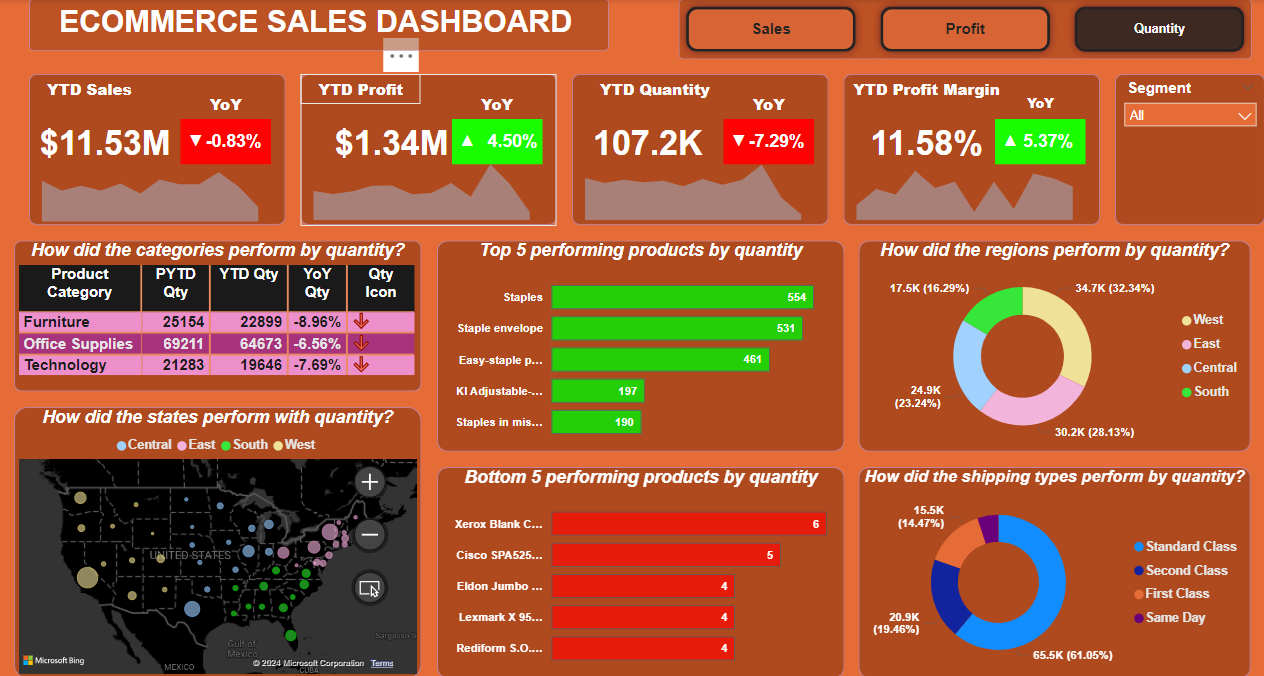

This screenshot's page, from the dashboard's own definition file:
{"tool":"powerbi","page":{"name":"Quantity","canvas":[1345,720],"ordinal":2},"visuals":[{"type":"group","id":"g1","title":"Group 2","box":[320,80,272,160],"z":0},{"type":"shape","box":[32,0,615,55],"z":1000},{"type":"textbox","box":[32,0,608,48],"z":2000},{"type":"shape","box":[320,80,272,160],"z":2000,"group":"g4"},{"type":"shape","box":[608,80,272,160],"z":2000,"group":"g2"},{"type":"shape","box":[896,80,272,160],"z":2000,"group":"g3"},{"type":"shape","box":[32,80,272,160],"z":3000},{"type":"areaChart","fields":{"Category":["Date.Month"],"Y":["Sum(ecommerce_data.profit_per_order)"]},"box":[320,160,256,80],"z":4000,"group":"g4"},{"type":"areaChart","fields":{"Category":["Date.Month"],"Y":["Sum(ecommerce_data.order_quantity)"]},"box":[608,160,256,80],"z":4000,"group":"g2"},{"type":"areaChart","fields":{"Category":["Date.Month"],"Y":["ecommerce_data.Gross Profit Margin"]},"box":[896,160,256,80],"z":4000,"group":"g3"},{"type":"shape","box":[16,256,432,160],"z":4000},{"type":"card","fields":{"Values":["ecommerce_data.YTD Sales"]},"box":[16,128,192,48],"z":5000},{"type":"shape","box":[480,128,96,48],"z":5000,"group":"g4"},{"type":"shape","box":[768,128,96,48],"z":5000,"group":"g2"},{"type":"shape","box":[1056,128,96,48],"z":5000,"group":"g3"},{"type":"card","fields":{"Values":["ecommerce_data.YoY Profit"]},"box":[512,128,64,48],"z":6000,"group":"g4"},{"type":"card","fields":{"Values":["ecommerce_data.YoY Qty"]},"box":[784,128,80,48],"z":6000,"group":"g2"},{"type":"card","fields":{"Values":["ecommerce_data.YoY Gross Profit Margin"]},"box":[1072,128,80,48],"z":6000,"group":"g3"},{"type":"areaChart","fields":{"Category":["Date.Month"],"Y":["Sum(ecommerce_data.sales_per_order)"]},"box":[32,160,256,80],"z":6000},{"type":"shape","box":[192,128,96,48],"z":7000,"group":"g5"},{"type":"card","fields":{"Values":["ecommerce_data.YTD Profit"]},"box":[320,128,192,48],"z":7000},{"type":"card","fields":{"Values":["ecommerce_data.Profit Icon"]},"box":[480,128,32,48],"z":7000,"group":"g4"},{"type":"card","fields":{"Values":["ecommerce_data.Qty Icon"]},"box":[768,128,32,48],"z":7000,"group":"g2"},{"type":"card","fields":{"Values":["ecommerce_data.Gross Profit Margin Icon"]},"box":[1056,128,32,48],"z":7000,"group":"g3"},{"type":"textbox","box":[320,80,128,32],"z":8000,"group":"g4"},{"type":"group","id":"g2","title":"Group 1","box":[608,80,272,160],"z":8000},{"type":"textbox","box":[624,80,144,32],"z":8000,"group":"g2"},{"type":"textbox","box":[896,80,176,32],"z":8000,"group":"g3"},{"type":"card","fields":{"Values":["ecommerce_data.YoY Sales"]},"box":[208,128,80,48],"z":8000,"group":"g5"},{"type":"group","id":"g3","title":"Group 1","box":[896,80,272,160],"z":9000},{"type":"card","fields":{"Values":["ecommerce_data.Sales Icon"]},"box":[192,128,32,48],"z":9000,"group":"g5"},{"type":"textbox","box":[32,80,128,32],"z":10000,"group":"g5"},{"type":"group","id":"g4","title":"Group 1","box":[320,80,272,160],"z":10000,"group":"g1"},{"type":"pivotTable","title":"How did the categories perform by quantity?","fields":{"Rows":["ecommerce_data.category_name"],"Values":["ecommerce_data.PYTD Qty","ecommerce_data.YTD Quantity","ecommerce_data.YoY Qty","ecommerce_data.Qty Icon"]},"box":[16,256,432,160],"z":10000},{"type":"group","id":"g5","title":"Group 3","box":[32,80,256,96],"z":11000},{"type":"group","id":"g6","title":"Group 4","box":[896,96,272,96],"z":12000},{"type":"group","id":"g7","title":"Group 5","box":[608,96,256,80],"z":13000},{"type":"card","fields":{"Values":["ecommerce_data.YTD Quantity"]},"box":[608,128,160,48],"z":13000,"group":"g7"},{"type":"shape","box":[16,432,432,288],"z":14000},{"type":"card","fields":{"Values":["ecommerce_data.YTD Gross Profit Margin"]},"box":[896,112,176,80],"z":15000,"group":"g6"},{"type":"map","title":"How did the states perform with quantity?","fields":{"Y":["us_state_long_lat_codes.latitude"],"X":["us_state_long_lat_codes.longitude"],"Size":["ecommerce_data.YTD Quantity"],"Series":["ecommerce_data.customer_region"]},"box":[16,432,432,288],"z":15000},{"type":"shape","box":[464,496,432,224],"z":16000},{"type":"textbox","box":[496,96,64,32],"z":16002,"group":"g1"},{"type":"textbox","box":[192,96,96,32],"z":17000,"group":"g5"},{"type":"shape","box":[464,256,432,224],"z":17000},{"type":"textbox","box":[768,96,96,48],"z":17002,"group":"g7"},{"type":"textbox","box":[1040,96,128,48],"z":17003,"group":"g6"},{"type":"barChart","title":"Top 5 performing products by quantity","fields":{"Category":["ecommerce_data.product_name"],"Y":["ecommerce_data.YTD Quantity"]},"box":[464,256,432,224],"z":18000},{"type":"barChart","title":"Bottom 5 performing products by quantity","fields":{"Category":["ecommerce_data.product_name"],"Y":["ecommerce_data.YTD Quantity"]},"box":[464,496,432,224],"z":19000},{"type":"shape","box":[912,256,416,224],"z":20000},{"type":"shape","box":[912,496,416,224],"z":21000},{"type":"donutChart","title":"How did the regions perform by quantity?","fields":{"Category":["ecommerce_data.customer_region"],"Y":["ecommerce_data.YTD Quantity"]},"box":[912,256,416,224],"z":22000},{"type":"donutChart","title":"How did the shipping types perform by quantity?","fields":{"Category":["ecommerce_data.shipping_type"],"Y":["ecommerce_data.YTD Quantity"]},"box":[912,496,416,224],"z":23000},{"type":"shape","box":[1184,80,160,160],"z":24000},{"type":"slicer","fields":{"Values":["ecommerce_data.customer_segment"]},"box":[1184,80,160,160],"z":25000},{"type":"shape","box":[720,0,608,64],"z":26000},{"type":"pageNavigator","box":[720,0,608,64],"z":27000}]}

Visuals, with their boxes in screenshot pixels (x1, y1, x2, y2), scaled from the page's 1345x720 canvas onto the 1264x676 screenshot:
"Group 2" group: <bbox>301, 75, 556, 225</bbox>
shape: <bbox>30, 0, 608, 52</bbox>
textbox: <bbox>30, 0, 601, 45</bbox>
shape: <bbox>301, 75, 556, 225</bbox>
shape: <bbox>571, 75, 827, 225</bbox>
shape: <bbox>842, 75, 1098, 225</bbox>
shape: <bbox>30, 75, 286, 225</bbox>
areaChart - Date.Month x Sum(ecommerce_data.profit_per_order): <bbox>301, 150, 541, 225</bbox>
areaChart - Date.Month x Sum(ecommerce_data.order_quantity): <bbox>571, 150, 812, 225</bbox>
areaChart - Date.Month x ecommerce_data.Gross Profit Margin: <bbox>842, 150, 1083, 225</bbox>
shape: <bbox>15, 240, 421, 391</bbox>
card - ecommerce_data.YTD Sales: <bbox>15, 120, 195, 165</bbox>
shape: <bbox>451, 120, 541, 165</bbox>
shape: <bbox>722, 120, 812, 165</bbox>
shape: <bbox>992, 120, 1083, 165</bbox>
card - ecommerce_data.YoY Profit: <bbox>481, 120, 541, 165</bbox>
card - ecommerce_data.YoY Qty: <bbox>737, 120, 812, 165</bbox>
card - ecommerce_data.YoY Gross Profit Margin: <bbox>1007, 120, 1083, 165</bbox>
areaChart - Date.Month x Sum(ecommerce_data.sales_per_order): <bbox>30, 150, 271, 225</bbox>
shape: <bbox>180, 120, 271, 165</bbox>
card - ecommerce_data.YTD Profit: <bbox>301, 120, 481, 165</bbox>
card - ecommerce_data.Profit Icon: <bbox>451, 120, 481, 165</bbox>
card - ecommerce_data.Qty Icon: <bbox>722, 120, 752, 165</bbox>
card - ecommerce_data.Gross Profit Margin Icon: <bbox>992, 120, 1022, 165</bbox>
textbox: <bbox>301, 75, 421, 105</bbox>
"Group 1" group: <bbox>571, 75, 827, 225</bbox>
textbox: <bbox>586, 75, 722, 105</bbox>
textbox: <bbox>842, 75, 1007, 105</bbox>
card - ecommerce_data.YoY Sales: <bbox>195, 120, 271, 165</bbox>
"Group 1" group: <bbox>842, 75, 1098, 225</bbox>
card - ecommerce_data.Sales Icon: <bbox>180, 120, 211, 165</bbox>
textbox: <bbox>30, 75, 150, 105</bbox>
"Group 1" group: <bbox>301, 75, 556, 225</bbox>
"How did the categories perform by quantity?" pivotTable: <bbox>15, 240, 421, 391</bbox>
"Group 3" group: <bbox>30, 75, 271, 165</bbox>
"Group 4" group: <bbox>842, 90, 1098, 180</bbox>
"Group 5" group: <bbox>571, 90, 812, 165</bbox>
card - ecommerce_data.YTD Quantity: <bbox>571, 120, 722, 165</bbox>
shape: <bbox>15, 406, 421, 675</bbox>
card - ecommerce_data.YTD Gross Profit Margin: <bbox>842, 105, 1007, 180</bbox>
"How did the states perform with quantity?" map: <bbox>15, 406, 421, 675</bbox>
shape: <bbox>436, 466, 842, 675</bbox>
textbox: <bbox>466, 90, 526, 120</bbox>
textbox: <bbox>180, 90, 271, 120</bbox>
shape: <bbox>436, 240, 842, 451</bbox>
textbox: <bbox>722, 90, 812, 135</bbox>
textbox: <bbox>977, 90, 1098, 135</bbox>
"Top 5 performing products by quantity" barChart: <bbox>436, 240, 842, 451</bbox>
"Bottom 5 performing products by quantity" barChart: <bbox>436, 466, 842, 675</bbox>
shape: <bbox>857, 240, 1248, 451</bbox>
shape: <bbox>857, 466, 1248, 675</bbox>
"How did the regions perform by quantity?" donutChart: <bbox>857, 240, 1248, 451</bbox>
"How did the shipping types perform by quantity?" donutChart: <bbox>857, 466, 1248, 675</bbox>
shape: <bbox>1113, 75, 1263, 225</bbox>
slicer - ecommerce_data.customer_segment: <bbox>1113, 75, 1263, 225</bbox>
shape: <bbox>677, 0, 1248, 60</bbox>
pageNavigator: <bbox>677, 0, 1248, 60</bbox>
